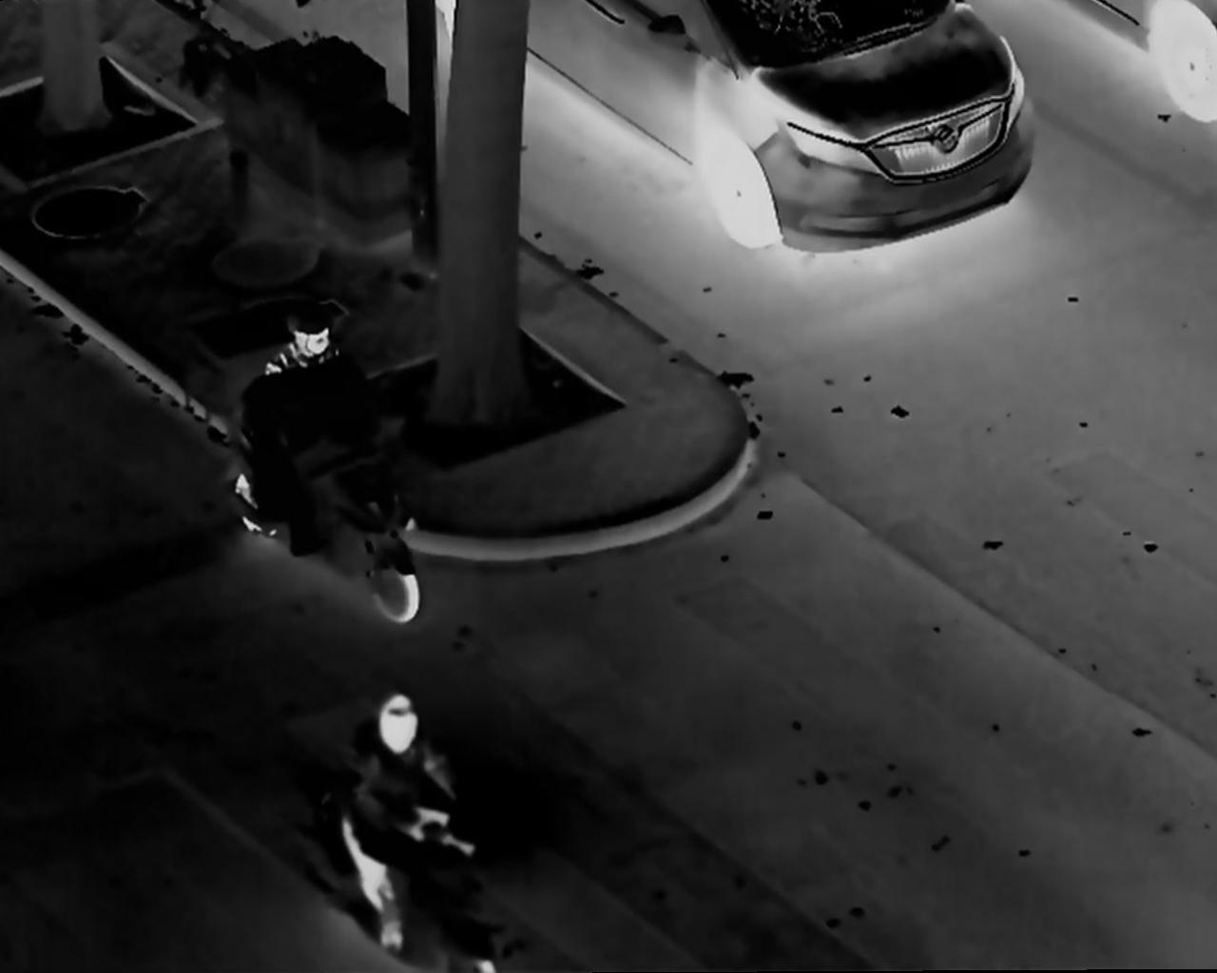person: (335, 686, 477, 961), (243, 310, 358, 529)
